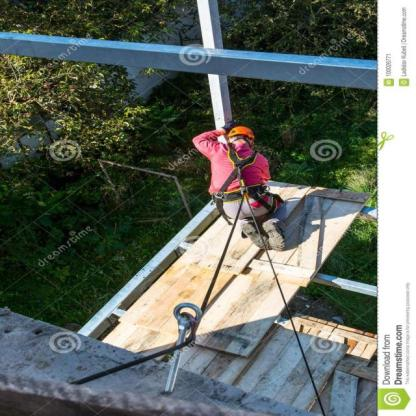bota: (265, 216, 290, 254), (238, 221, 269, 251)
capacete: (223, 125, 260, 141)
